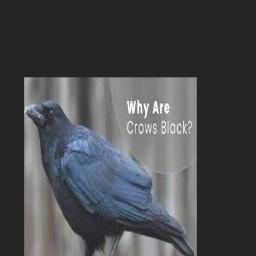Crow: (24, 101, 196, 256)
